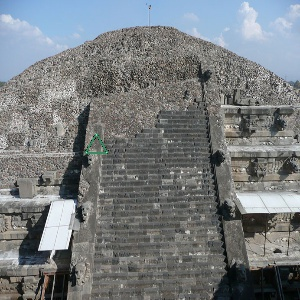triangle: (82, 133, 110, 156)
